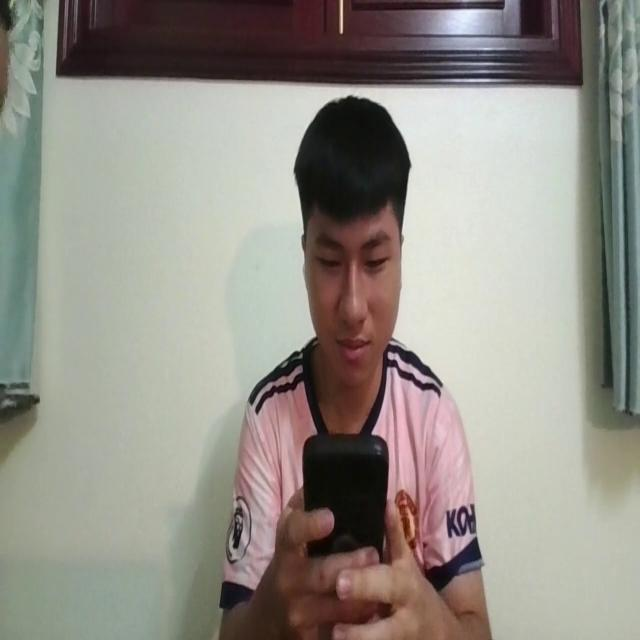phone: (299, 422, 393, 574)
student: (216, 93, 492, 640)
